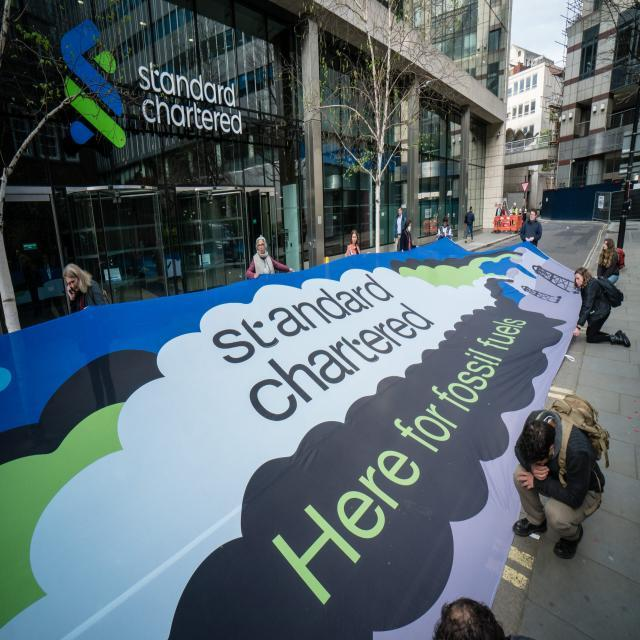Standard Chartered: (212, 271, 435, 425), (61, 18, 243, 150)
